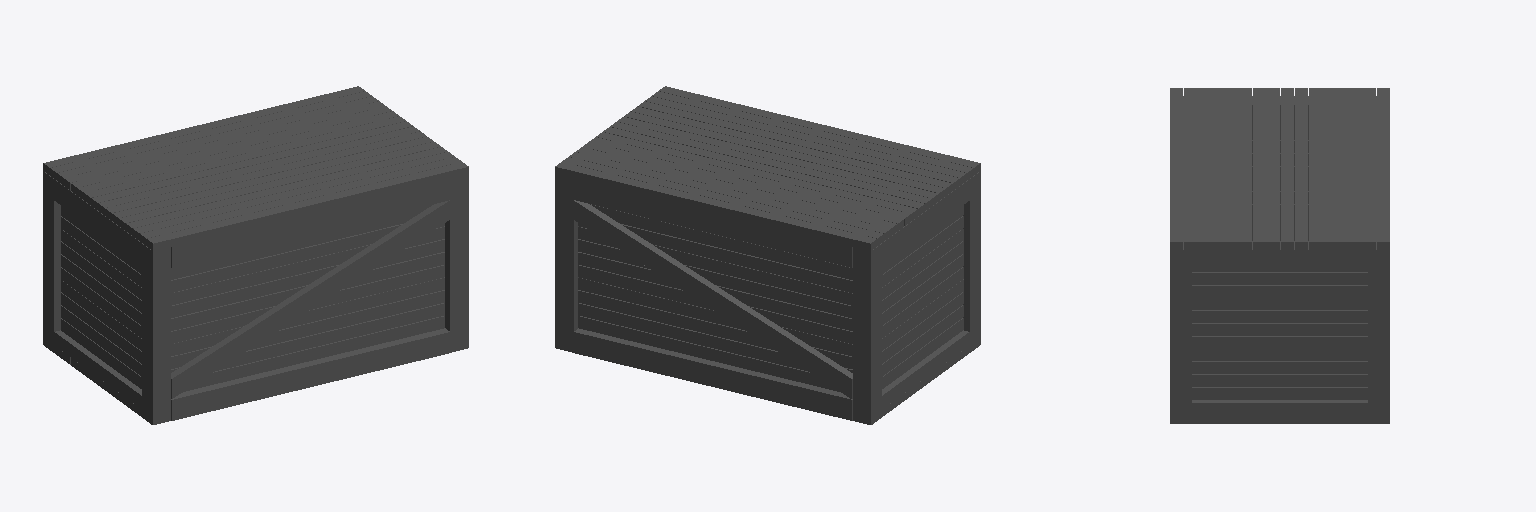
File: wbox.obj
3 views of the same model, side by side, from view 1: azimuth 30°, elevation 25°; view 2: azimuth 150°, elevation 25°; view 3: azimuth 270°, elevation 25° (orthographic).
Parts seen in each view (by area): view 1: WoodenBox_WoodenBox_WoodenBox1, WoodenBox_WoodenBox_WoodenBox5, WoodenBox_WoodenBox_WoodenBox3, WoodenBox_WoodenBox_WoodenBox2, WoodenBox_WoodenBox_WoodenBox4, WoodenBox_WoodenBox_WoodenBox6; view 2: WoodenBox_WoodenBox_WoodenBox1, WoodenBox_WoodenBox_WoodenBox5, WoodenBox_WoodenBox_WoodenBox3, WoodenBox_WoodenBox_WoodenBox2, WoodenBox_WoodenBox_WoodenBox4, WoodenBox_WoodenBox_WoodenBox6; view 3: WoodenBox_WoodenBox_WoodenBox1, WoodenBox_WoodenBox_WoodenBox2, WoodenBox_WoodenBox_WoodenBox6, WoodenBox_WoodenBox_WoodenBox3.
Part boxes in pixels (bbox=[...]): WoodenBox_WoodenBox_WoodenBox1: bbox=[43, 86, 468, 416]; WoodenBox_WoodenBox_WoodenBox5: bbox=[171, 179, 449, 420]; WoodenBox_WoodenBox_WoodenBox3: bbox=[43, 171, 468, 424]; WoodenBox_WoodenBox_WoodenBox2: bbox=[61, 206, 141, 388]; WoodenBox_WoodenBox_WoodenBox4: bbox=[171, 200, 449, 398]; WoodenBox_WoodenBox_WoodenBox6: bbox=[54, 179, 142, 408]; WoodenBox_WoodenBox_WoodenBox1: bbox=[555, 86, 980, 416]; WoodenBox_WoodenBox_WoodenBox5: bbox=[574, 179, 852, 420]; WoodenBox_WoodenBox_WoodenBox3: bbox=[555, 171, 980, 424]; WoodenBox_WoodenBox_WoodenBox2: bbox=[882, 205, 963, 388]; WoodenBox_WoodenBox_WoodenBox4: bbox=[574, 200, 852, 398]; WoodenBox_WoodenBox_WoodenBox6: bbox=[882, 179, 969, 408]; WoodenBox_WoodenBox_WoodenBox1: bbox=[1170, 88, 1389, 249]; WoodenBox_WoodenBox_WoodenBox2: bbox=[1192, 127, 1367, 399]; WoodenBox_WoodenBox_WoodenBox6: bbox=[1192, 96, 1367, 423]; WoodenBox_WoodenBox_WoodenBox3: bbox=[1170, 96, 1389, 423].
Size of the model in its own units: 3.37 by 1.85 by 2.03.